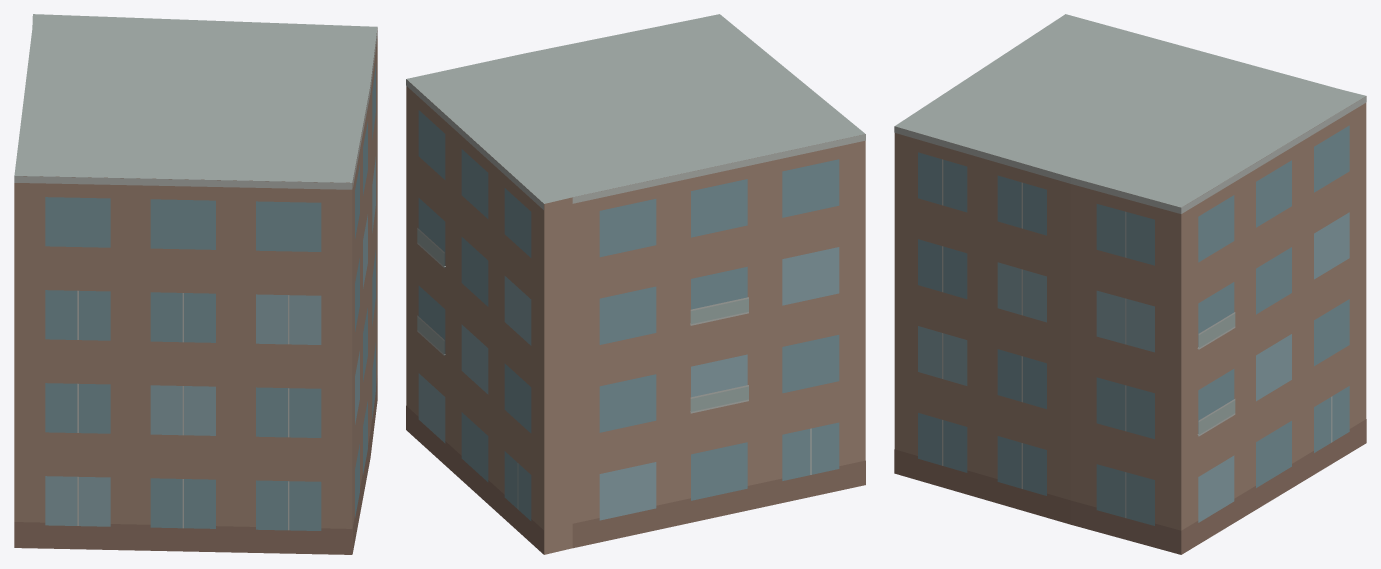
Rendered from survey-upis-32996969.glb.
3 views of the same model, side by side, from view 1: azimuth 30°, elevation 25°; view 2: azimuth 150°, elevation 25°; view 3: azimuth 270°, elevation 25° (orthographic). The views are drawn at different scales.
Visible parts, largest first — view 1: survey-upis-32996969.tmp; view 2: survey-upis-32996969.tmp; view 3: survey-upis-32996969.tmp.
Part boxes in pixels (<box>): survey-upis-32996969.tmp: <box>14,14,377,554</box>; survey-upis-32996969.tmp: <box>406,14,865,554</box>; survey-upis-32996969.tmp: <box>894,14,1366,554</box>.
Bounding box in the file's own units: 15.56 × 13 × 16.02.
